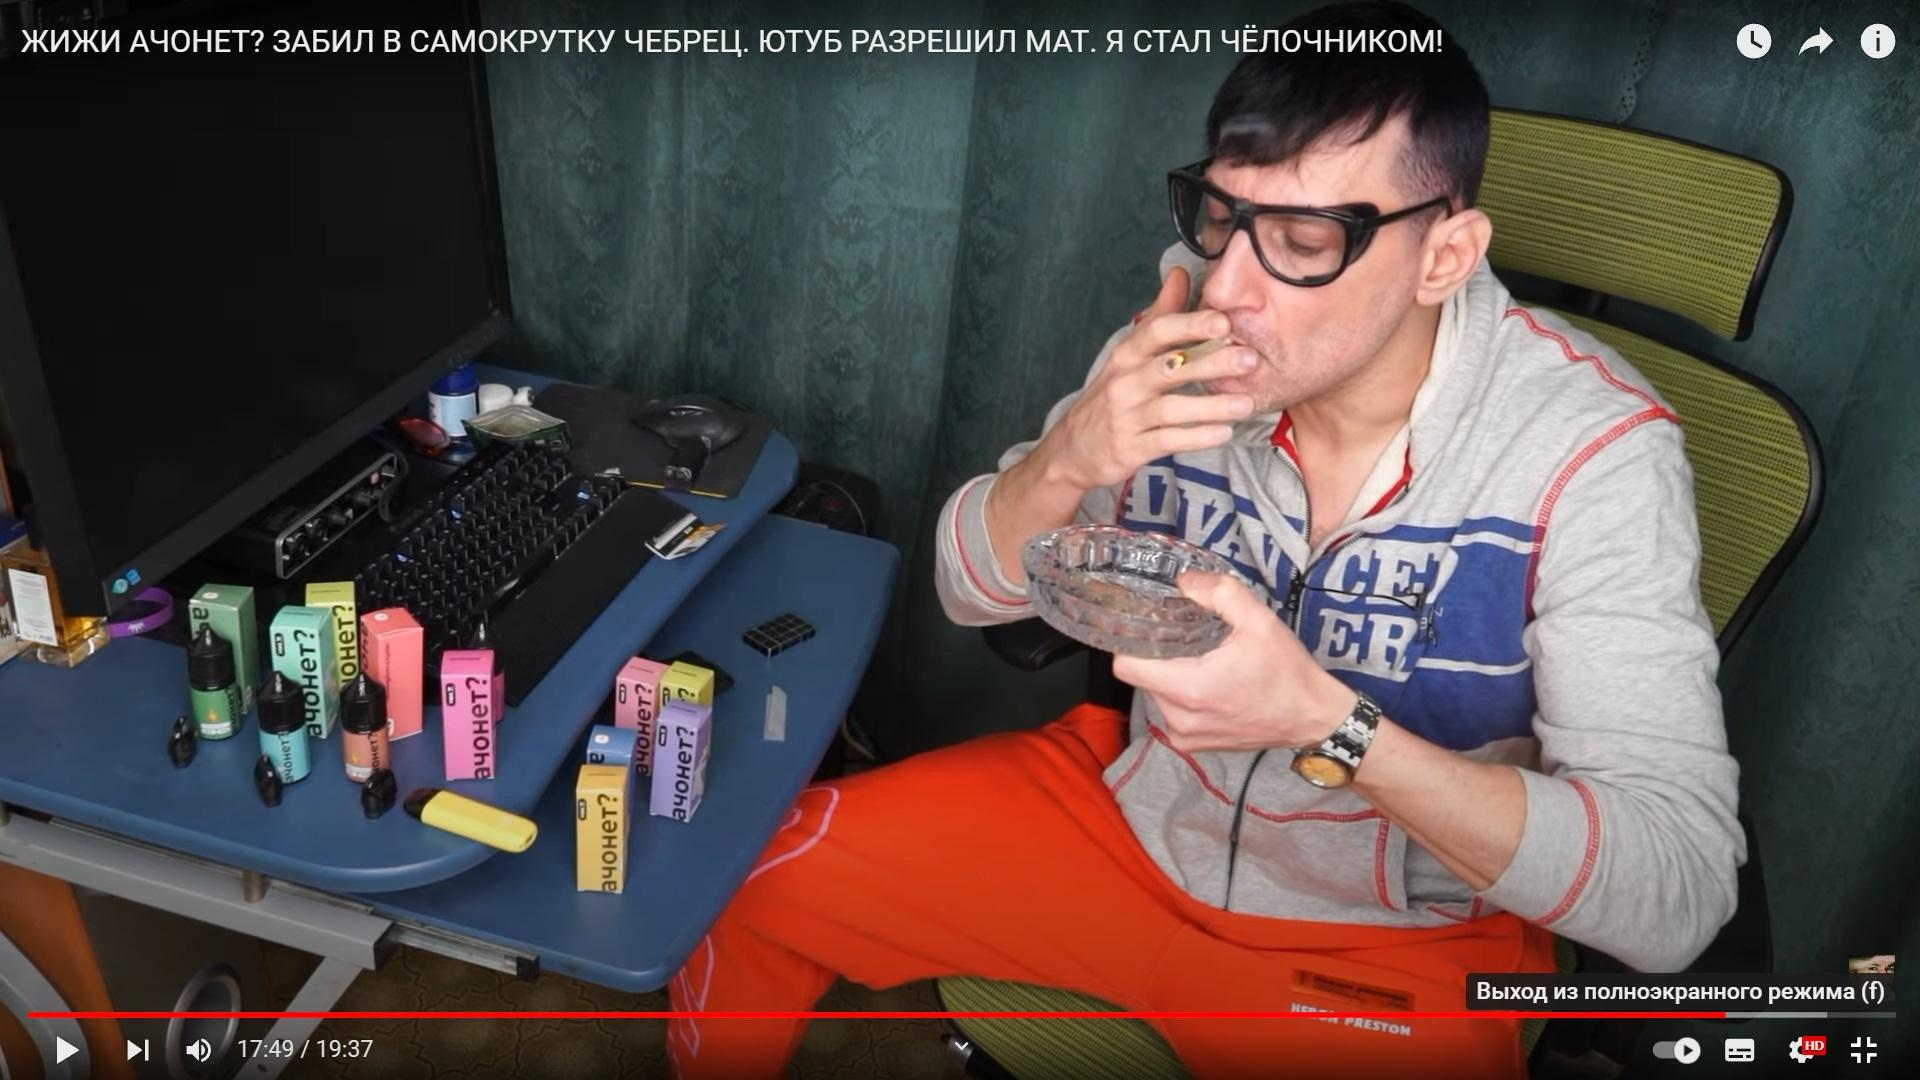cigarette: (1167, 336, 1233, 369)
